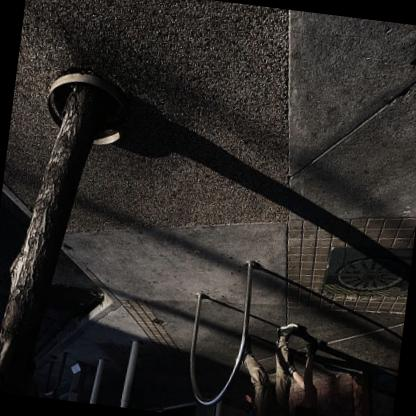manholes: (320, 229, 411, 325)
